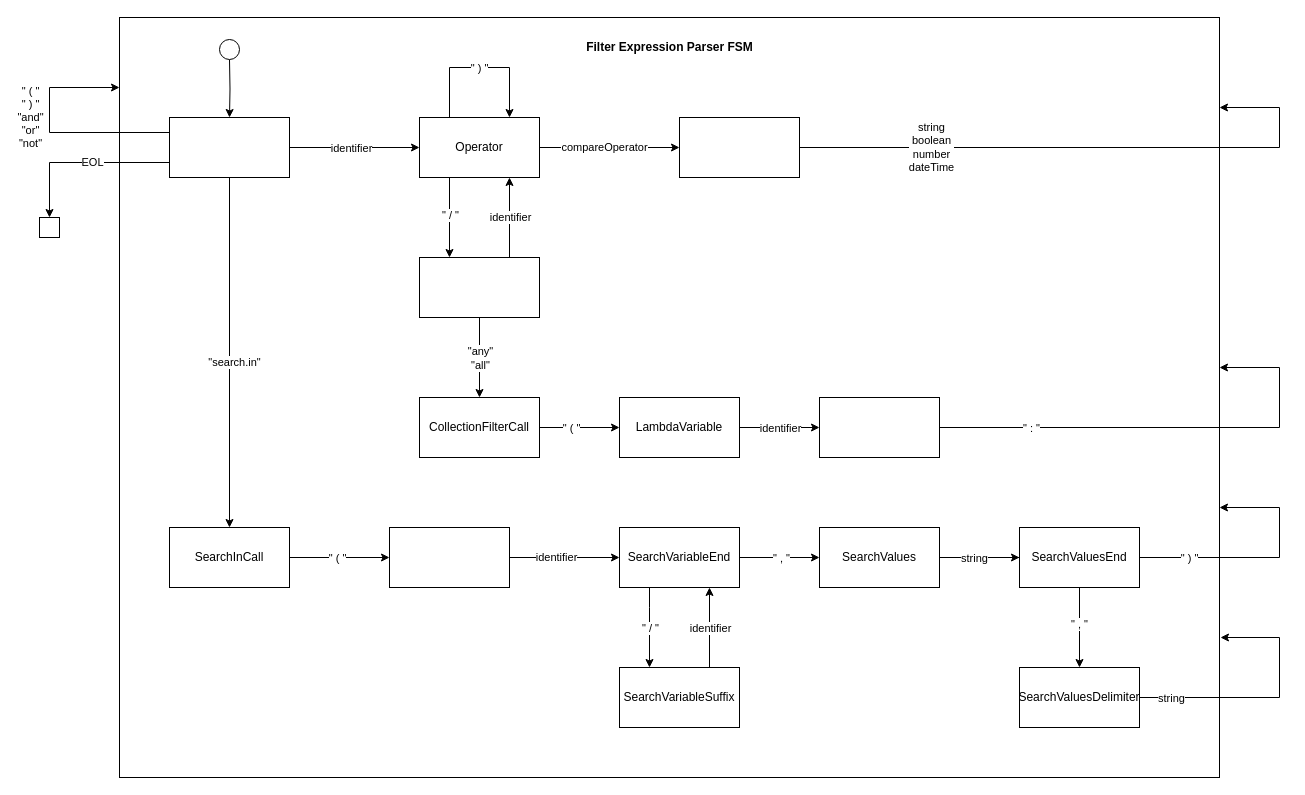
This 1305x795 diagram has some shape labels left out. The shapes that lost their labels are listed below. From the top down, each one's box as (x1, y1, x2, y2) in pixels, then its label:
(168, 116, 290, 178): LeftOperand
(678, 116, 800, 178): CompareTo
(418, 256, 540, 318): LeftOperandSuffix
(818, 396, 940, 458): Lambda arrow
(388, 526, 510, 588): SearchVariable
